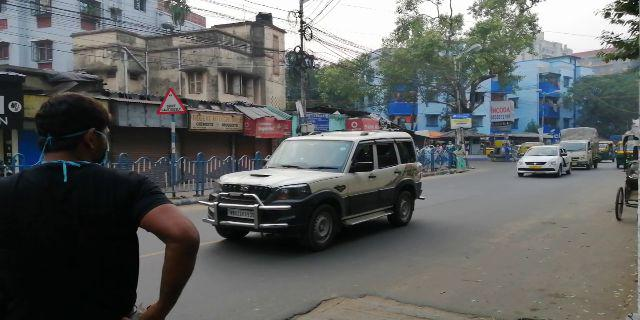Car: (209, 137, 430, 247), (514, 147, 570, 180)
